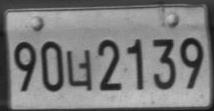0: (40, 40, 64, 93)
1: (125, 38, 148, 89)
2: (96, 38, 122, 91)
3: (152, 38, 177, 90)
9: (12, 40, 37, 92), (179, 36, 204, 88)
너: (65, 49, 92, 92)
